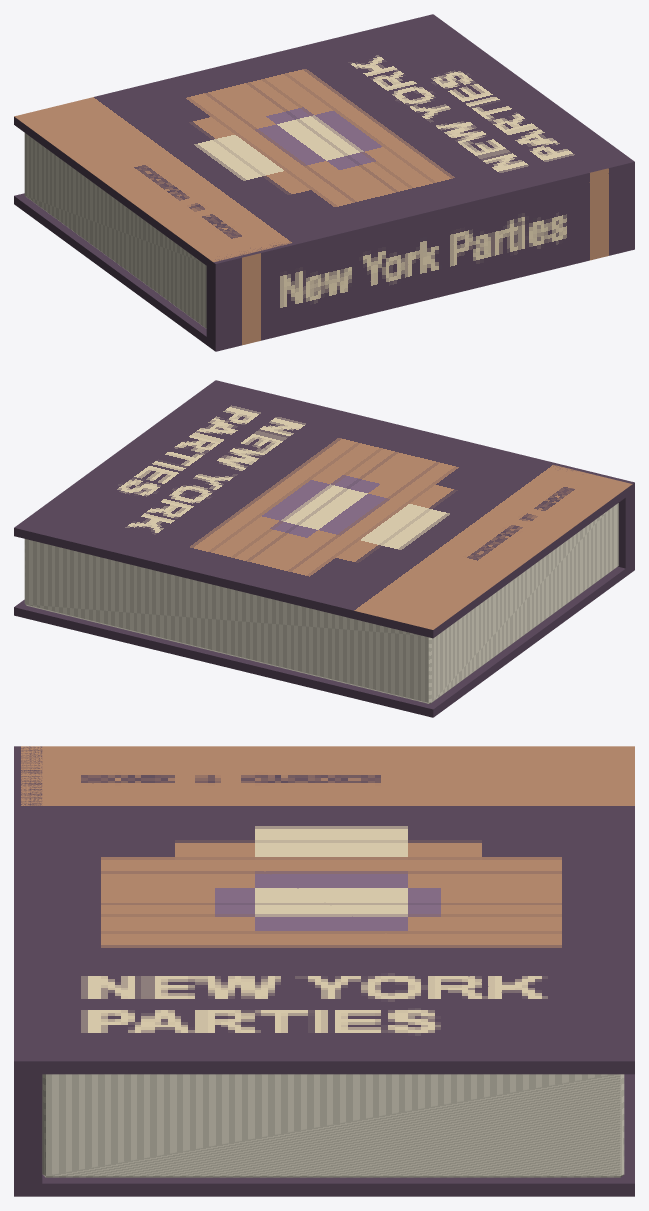
The model's file is book_nonf_hard_homemk_nyparti.glb.
3 renders of one model, top to bottom at view 1: azimuth 30°, elevation 25°; view 2: azimuth 150°, elevation 25°; view 3: azimuth 270°, elevation 25°, orthographic. The views are drawn at different scales.
Parts seen in each view (by area): view 1: block_front, block_spine, block_pages, block_back; view 2: block_front, block_pages, block_back, block_spine; view 3: block_front, block_pages, block_back, block_spine.
Part boxes in pixels (x1=…): block_front: x1=14, y1=14, x2=629, y2=270; block_spine: x1=206, y1=155, x2=634, y2=351; block_pages: x1=24, y1=133, x2=206, y2=328; block_back: x1=14, y1=193, x2=213, y2=349; block_front: x1=14, y1=382, x2=632, y2=638; block_pages: x1=24, y1=503, x2=618, y2=703; block_back: x1=14, y1=564, x2=632, y2=717; block_spine: x1=207, y1=380, x2=634, y2=571; block_front: x1=21, y1=746, x2=634, y2=1074; block_pages: x1=42, y1=1074, x2=624, y2=1177; block_back: x1=21, y1=1074, x2=634, y2=1196; block_spine: x1=14, y1=746, x2=42, y2=1196.
Bounding box in the file's own units: 0.255 × 0.051 × 0.2125.
Materials: 1 (1 with a texture image).
